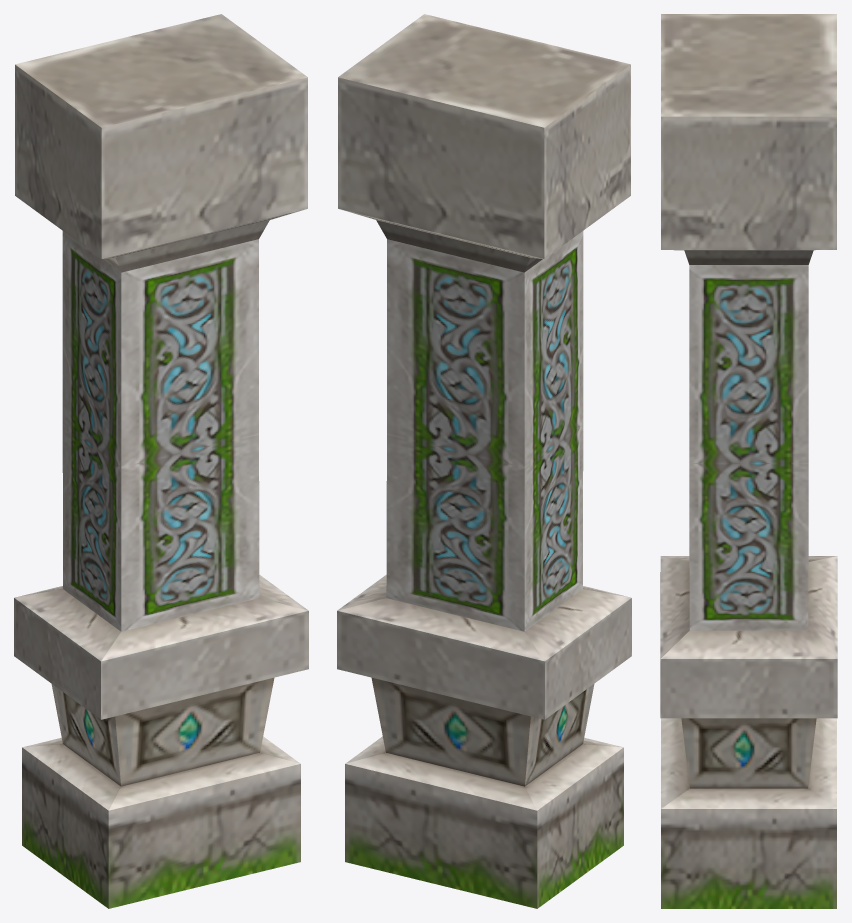
File: F02_pillar02_a.FBX
3 renders of one model, left to right at view 1: azimuth 30°, elevation 25°; view 2: azimuth 150°, elevation 25°; view 3: azimuth 270°, elevation 25°, orthographic.
Parts seen in each view (by area): view 1: F02_pillar02_a; view 2: F02_pillar02_a; view 3: F02_pillar02_a.
Part boxes in pixels (left/top/right/bottom): F02_pillar02_a: left=14, top=14, right=308, bottom=908; F02_pillar02_a: left=337, top=14, right=631, bottom=908; F02_pillar02_a: left=660, top=14, right=837, bottom=908.
Bounding box in the file's own units: 101 × 365 × 73.49.
